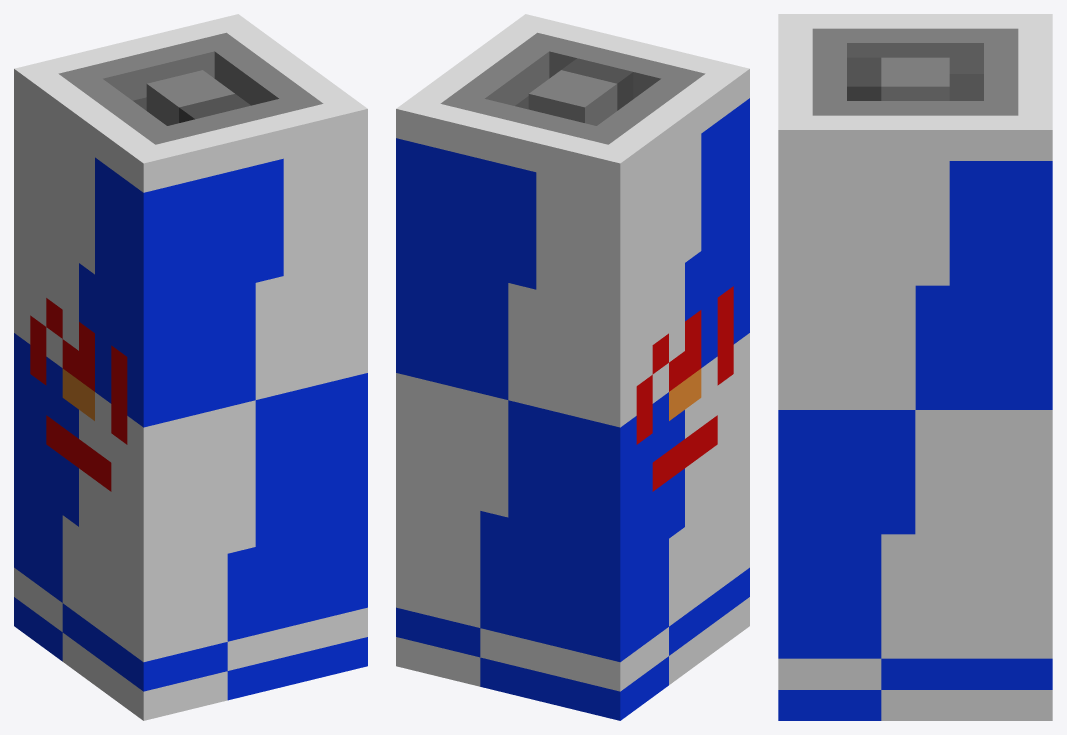
The model's file is Voxel Universe-34-Drink Energy.obj.
3 views of the same model, side by side, from view 1: azimuth 30°, elevation 25°; view 2: azimuth 150°, elevation 25°; view 3: azimuth 270°, elevation 25° (orthographic). The views are drawn at different scales.
Visible parts, largest first — view 1: Drink Energy; view 2: Drink Energy; view 3: Drink Energy.
Part boxes in pixels (x1,y1,x2,y2): Drink Energy: (14, 14, 367, 720); Drink Energy: (396, 14, 749, 720); Drink Energy: (778, 14, 1052, 720).
Bounding box in the file's own units: 0.8 × 1.9 × 0.8.
1 material, 1 textured.
